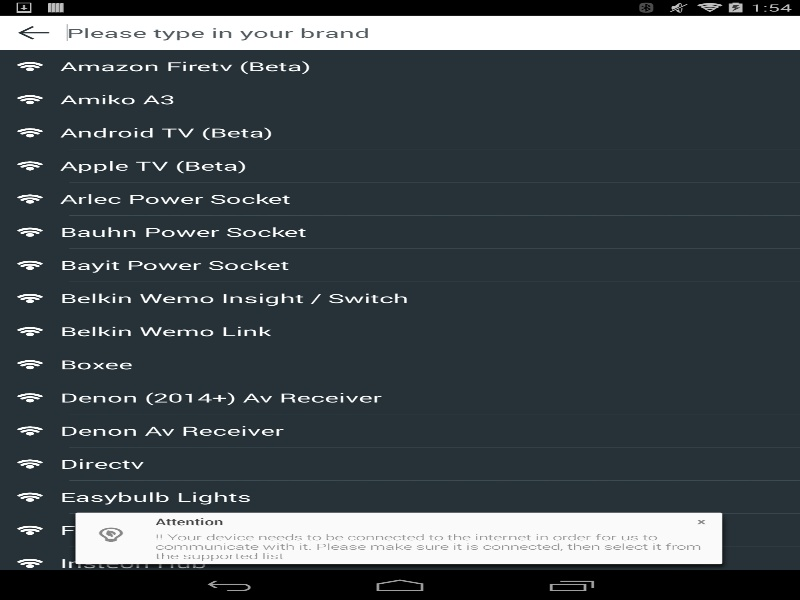Input: (66, 15, 800, 50)
